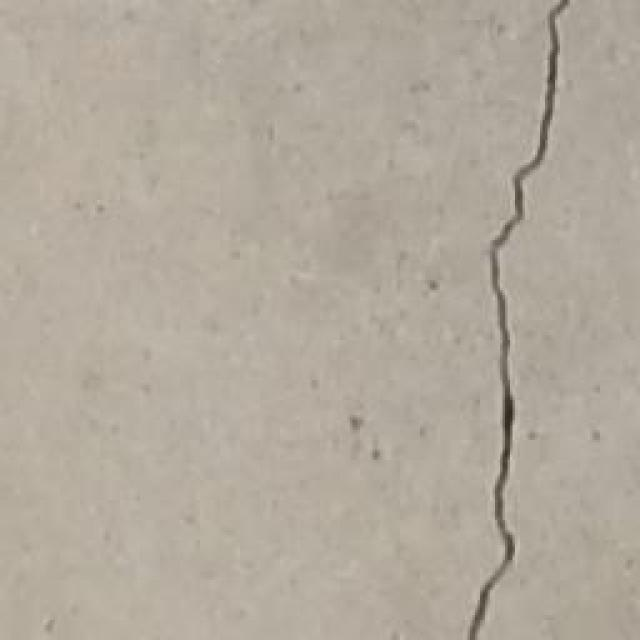concrete-crack: (465, 0, 572, 640)
